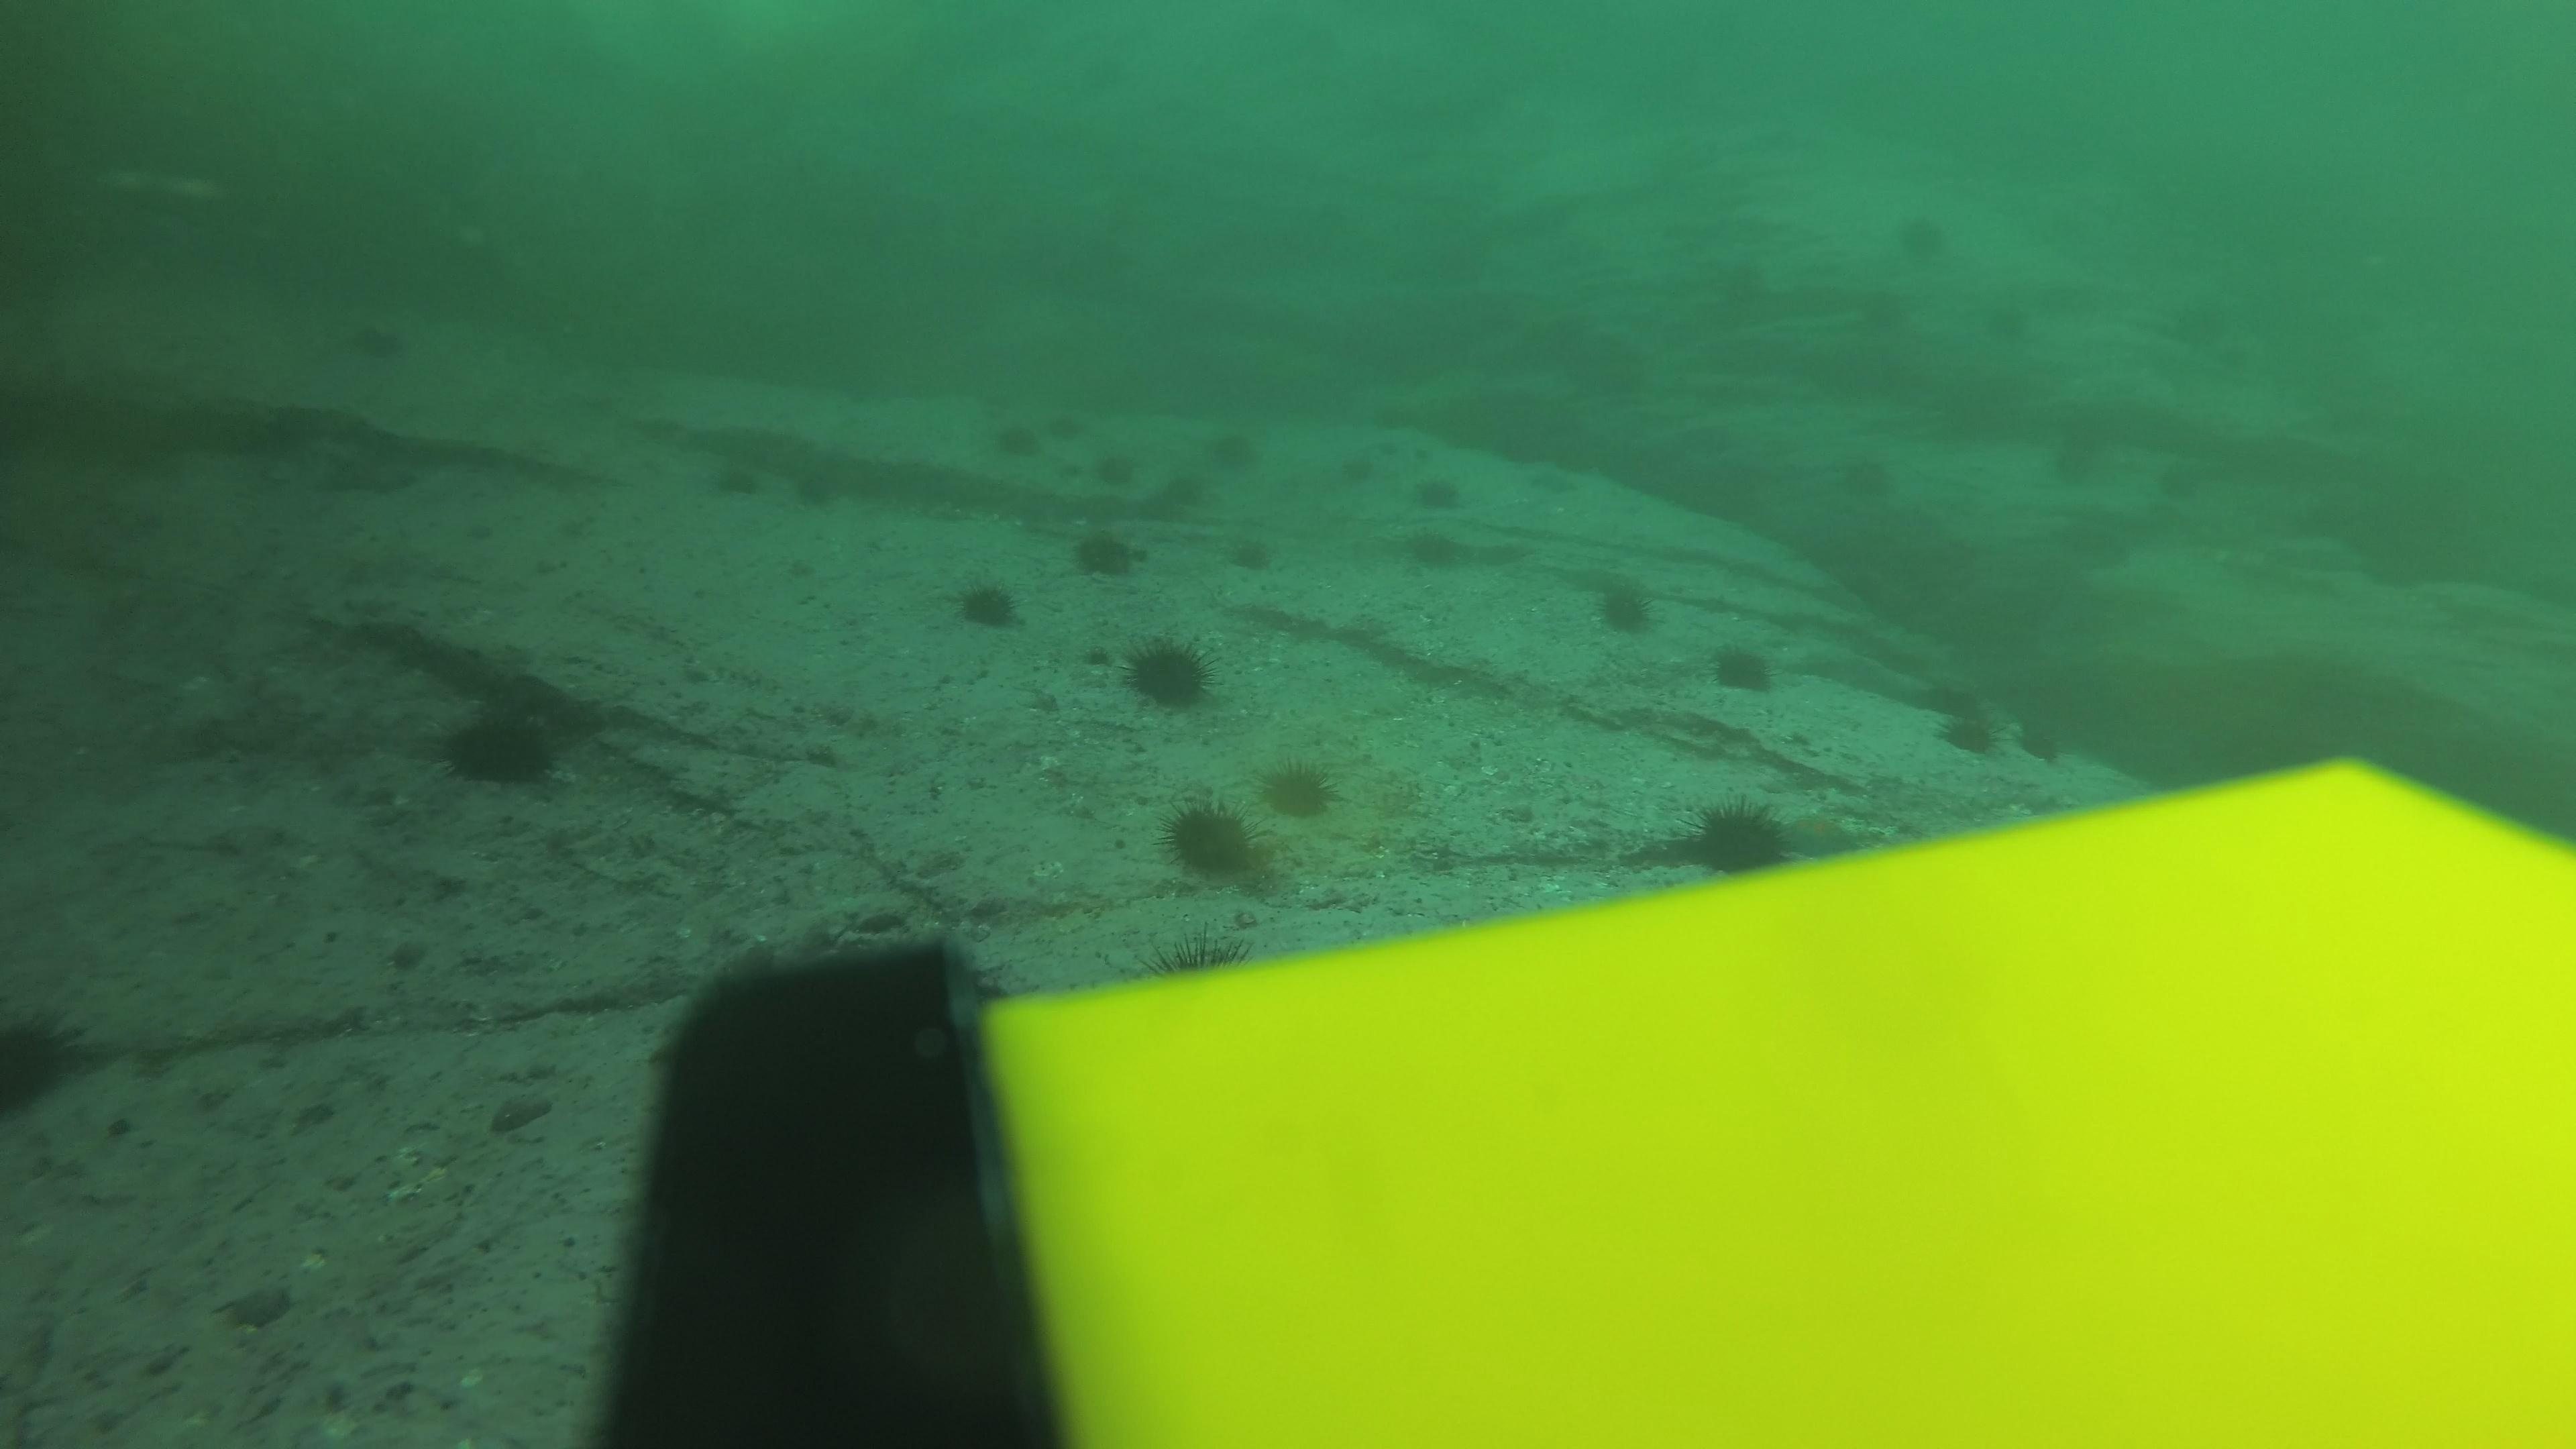echinus: (432, 697, 568, 796), (1157, 796, 1277, 893), (1674, 793, 1801, 883), (0, 1001, 88, 1123), (1116, 630, 1219, 717), (1254, 752, 1345, 826), (1927, 692, 2017, 764), (1583, 570, 1665, 642), (1067, 520, 1148, 586), (947, 571, 1026, 637), (1704, 635, 1783, 701), (1161, 458, 1226, 517), (1394, 524, 1460, 580), (1219, 524, 1284, 580), (1201, 421, 1267, 478), (2150, 449, 2215, 506), (2043, 430, 2109, 487), (1891, 207, 1957, 264), (1976, 287, 2042, 343), (1852, 281, 1918, 338), (1079, 446, 1143, 502), (2010, 720, 2074, 777), (1844, 449, 1907, 506), (2157, 292, 2220, 349), (1403, 469, 1470, 518), (1040, 409, 1090, 453), (1330, 449, 1380, 494), (994, 419, 1039, 465), (800, 472, 844, 518), (717, 462, 761, 508), (359, 322, 405, 366)
starfish: (1769, 805, 1874, 863), (211, 1274, 299, 1334)
